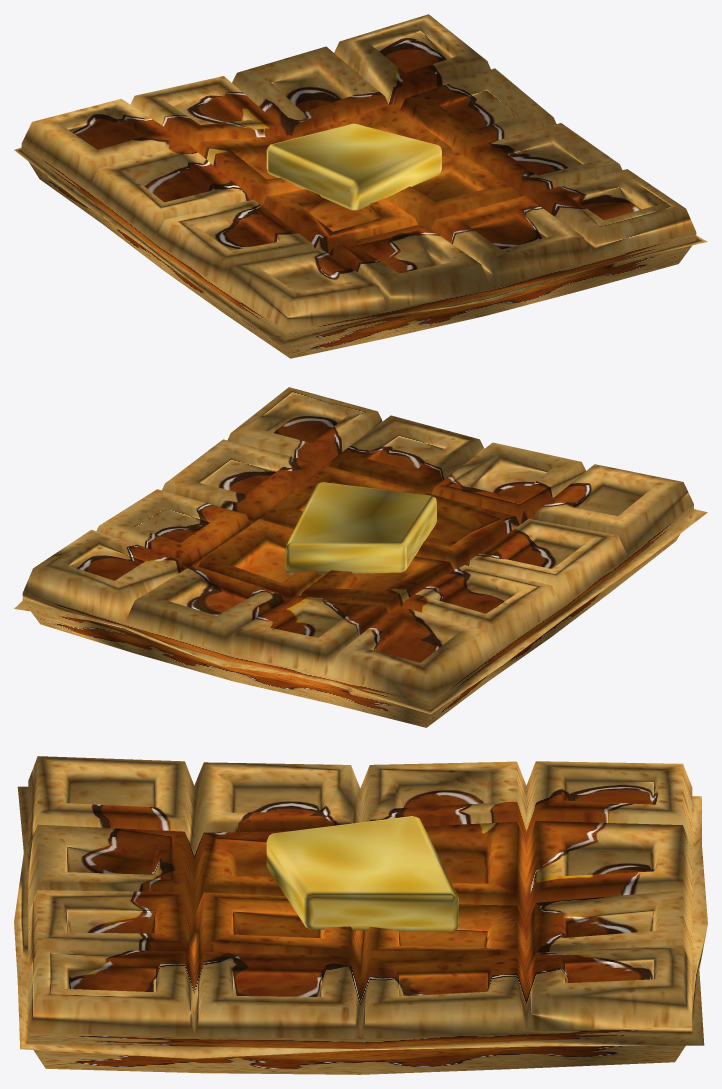
Rendered from waffle.fbx.
The picture shows the model from 3 angles, top to bottom: view 1: azimuth 30°, elevation 25°; view 2: azimuth 150°, elevation 25°; view 3: azimuth 270°, elevation 25°; orthographic projection. The views are drawn at different scales.
Visible parts, largest first — view 1: FACESET_Waffle; view 2: FACESET_Waffle; view 3: FACESET_Waffle.
Boxes of the visible parts, x1,y1,x2,y2 form: FACESET_Waffle: [14, 14, 707, 358]; FACESET_Waffle: [14, 387, 707, 727]; FACESET_Waffle: [14, 756, 707, 1074].
Size of the model in its own units: 5.21 by 1.01 by 5.78.
